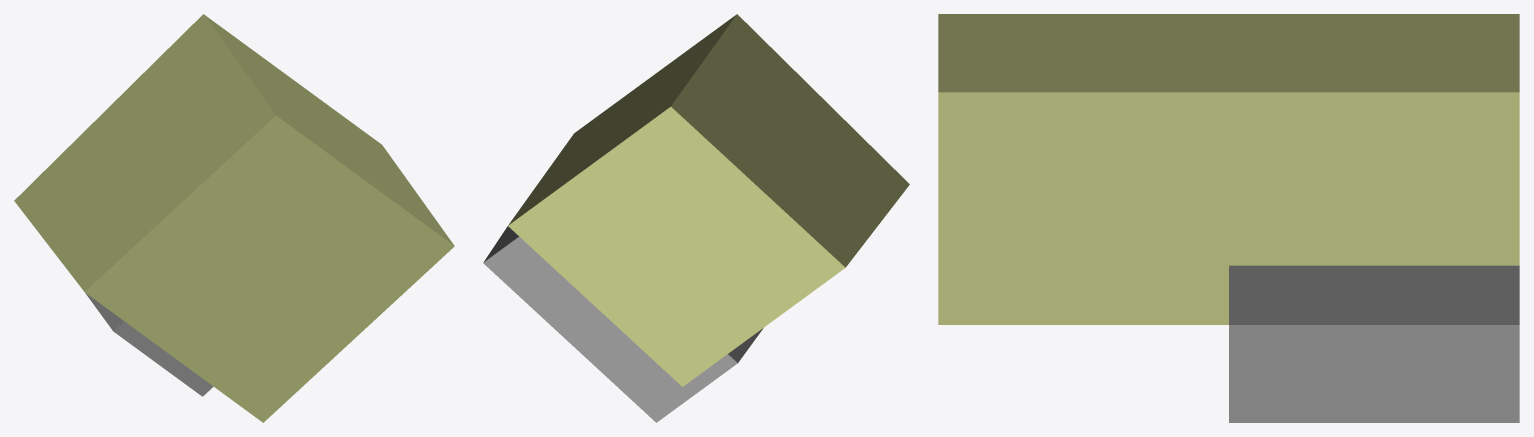
3 views of the same model, side by side, from view 1: azimuth 30°, elevation 25°; view 2: azimuth 150°, elevation 25°; view 3: azimuth 270°, elevation 25° (orthographic). The views are drawn at different scales.
Parts seen in each view (by area): view 1: 0_1_1_3_2_2_3_3_2_0_3; view 2: 0_1_1_3_2_2_3_3_2_0_3; view 3: 0_1_1_3_2_2_3_3_2_0_3.
Part boxes in pixels (x1,y1,x2,y2): 0_1_1_3_2_2_3_3_2_0_3: (14,14,454,422); 0_1_1_3_2_2_3_3_2_0_3: (483,14,909,422); 0_1_1_3_2_2_3_3_2_0_3: (938,14,1519,422).
Size of the model in its own units: 5.61 by 5.47 by 6.
